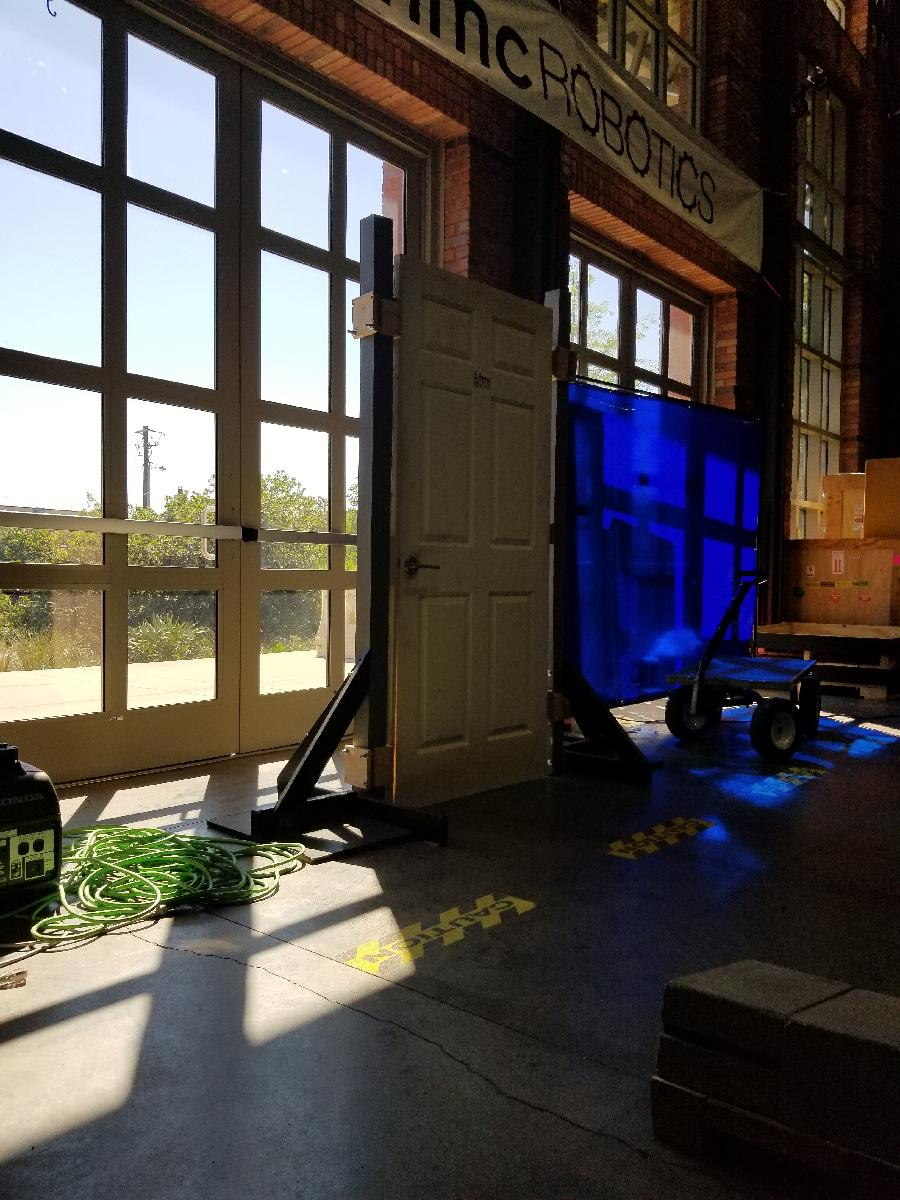door: (390, 252, 556, 823)
doorHandle: (402, 558, 443, 580)
